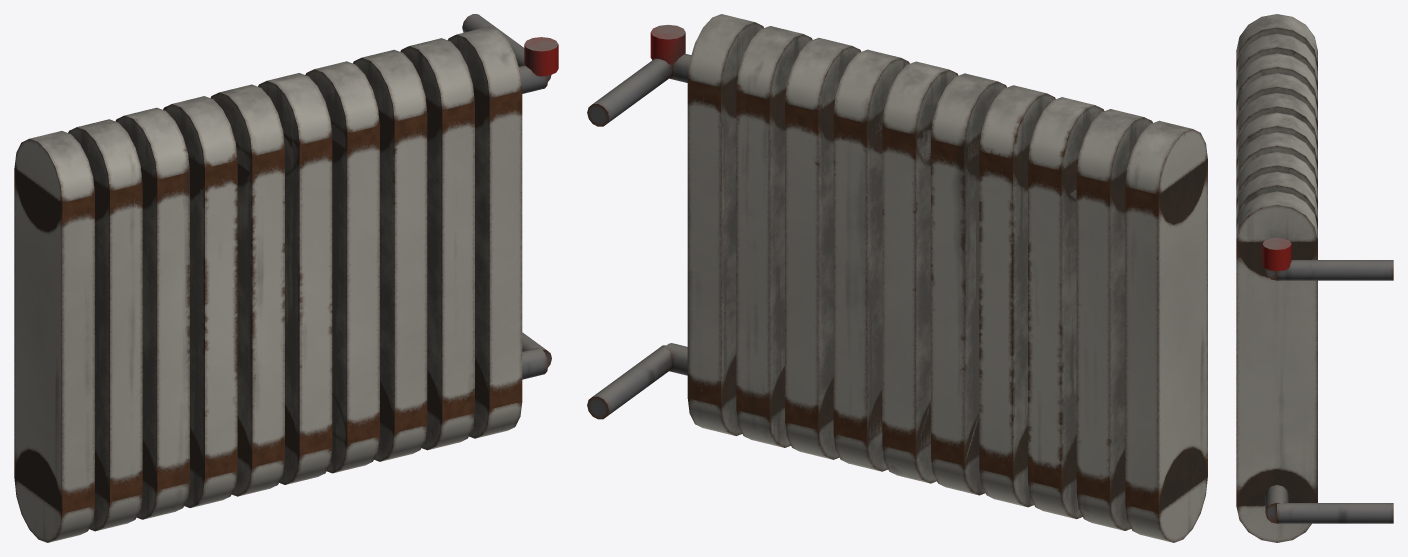
Rendered from SM_Radiator_CastIron.fbx.
The picture shows the model from 3 angles, left to right: view 1: azimuth 30°, elevation 25°; view 2: azimuth 150°, elevation 25°; view 3: azimuth 270°, elevation 25°; orthographic projection. The views are drawn at different scales.
Visible parts, largest first — view 1: SM_Radiator_CastIron; view 2: SM_Radiator_CastIron; view 3: SM_Radiator_CastIron.
Part boxes in pixels (box(x1,y1,x2,y2)): SM_Radiator_CastIron: box(14, 14, 558, 542); SM_Radiator_CastIron: box(587, 14, 1207, 542); SM_Radiator_CastIron: box(1236, 14, 1393, 542).
Bounding box in the file's own units: 0.8725 × 0.64 × 0.27.
Materials: 1 (1 with a texture image).
